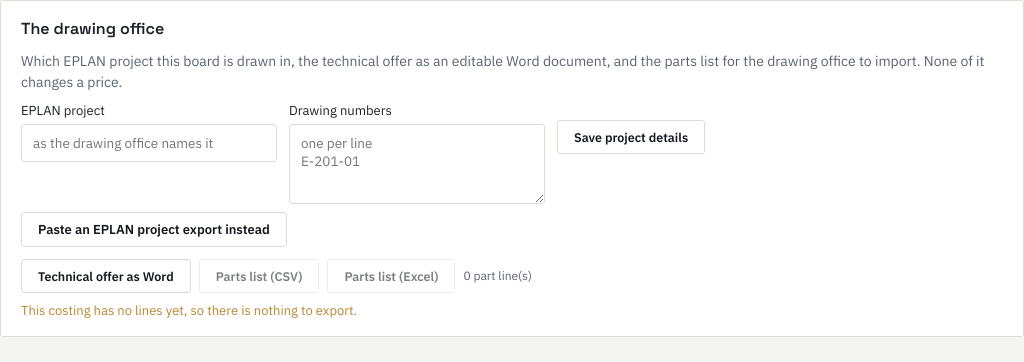
Scenario: the drawing office card › saves them, and says no price moved
Type "NPP-201" into the field labelled "EPLAN project".
click(149, 143); type("NPP-201")  # box [21,124,277,162]
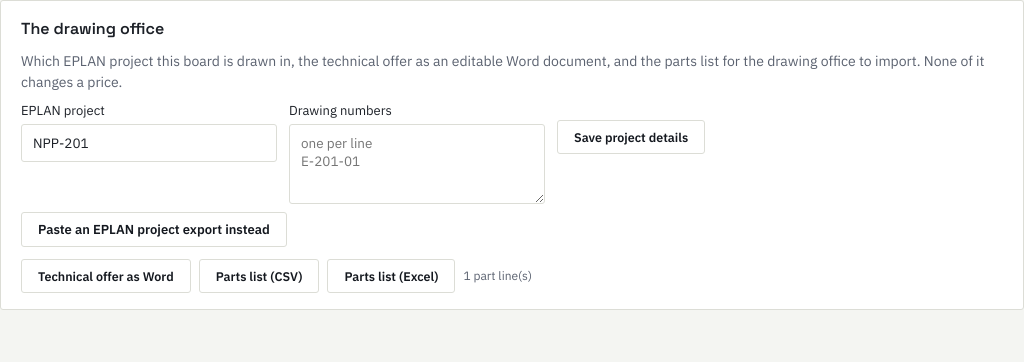
Click the button "Save project details".
click(631, 137)  # box [557,120,705,154]
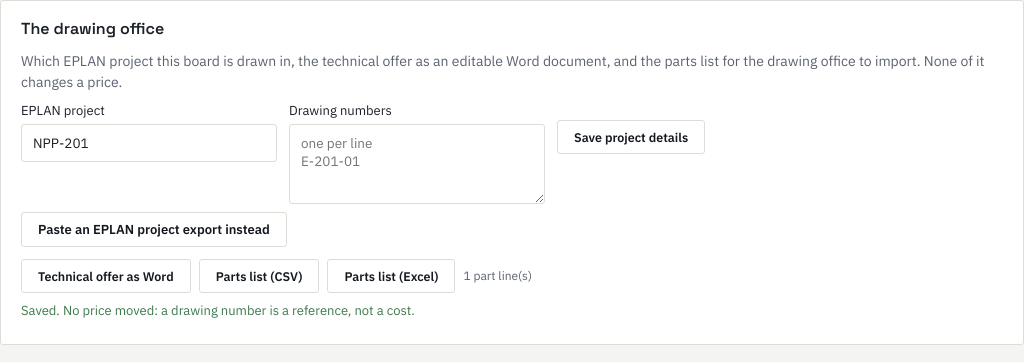
Now the text "No price moved" is shown, box [21,302,415,319]
